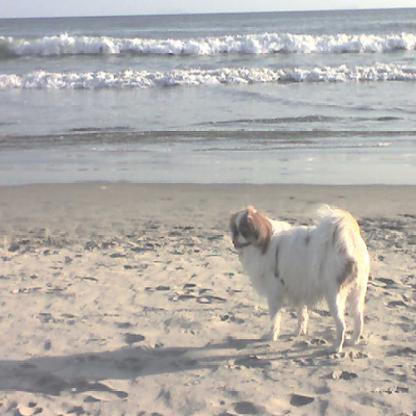dog: (232, 203, 373, 357)
